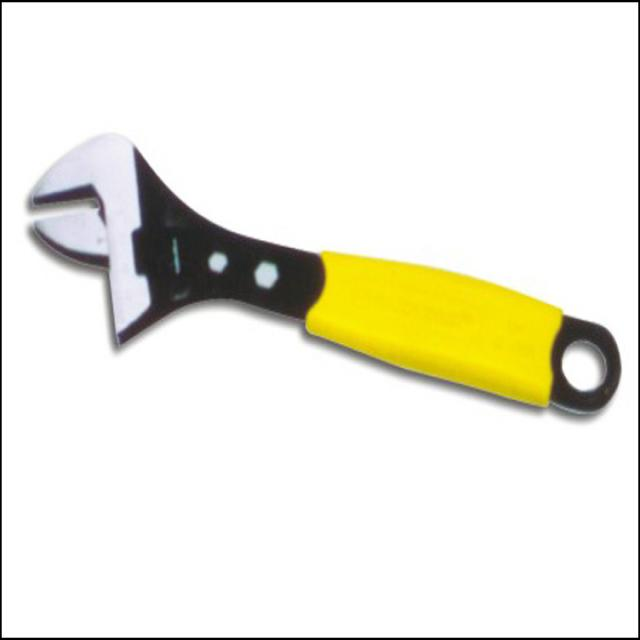wrench: (17, 93, 640, 466)
